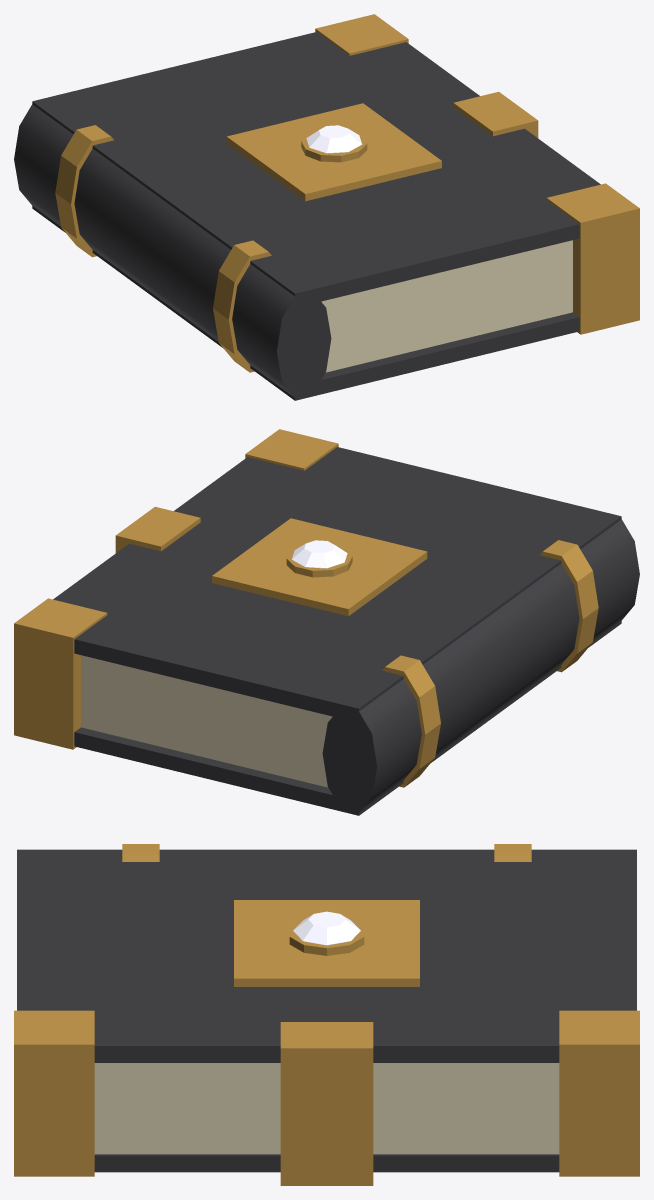
Rendered from tome_kinetic.glb.
The picture shows the model from 3 angles, top to bottom: view 1: azimuth 30°, elevation 25°; view 2: azimuth 150°, elevation 25°; view 3: azimuth 270°, elevation 25°; orthographic projection. The views are drawn at different scales.
Visible parts, largest first — view 1: Tome_Kinetic_Tome_kinetic, Tome_Kinetic_Brass, Tome_Kinetic_Paper, Tome_Kinetic_Gem_kinetic; view 2: Tome_Kinetic_Tome_kinetic, Tome_Kinetic_Brass, Tome_Kinetic_Paper, Tome_Kinetic_Gem_kinetic; view 3: Tome_Kinetic_Tome_kinetic, Tome_Kinetic_Brass, Tome_Kinetic_Paper, Tome_Kinetic_Gem_kinetic.
Part boxes in pixels (x1,y1,x2,y2): Tome_Kinetic_Tome_kinetic: [14, 32, 600, 400]; Tome_Kinetic_Brass: [55, 14, 639, 372]; Tome_Kinetic_Paper: [321, 240, 572, 372]; Tome_Kinetic_Gem_kinetic: [306, 125, 361, 153]; Tome_Kinetic_Tome_kinetic: [53, 447, 639, 815]; Tome_Kinetic_Brass: [14, 429, 598, 787]; Tome_Kinetic_Paper: [81, 655, 332, 787]; Tome_Kinetic_Gem_kinetic: [292, 540, 347, 568]; Tome_Kinetic_Tome_kinetic: [17, 849, 636, 1172]; Tome_Kinetic_Brass: [14, 844, 639, 1185]; Tome_Kinetic_Paper: [94, 1063, 559, 1154]; Tome_Kinetic_Gem_kinetic: [293, 911, 360, 945].
Size of the model in its own units: 0.1655 by 0.0571 by 0.202.
